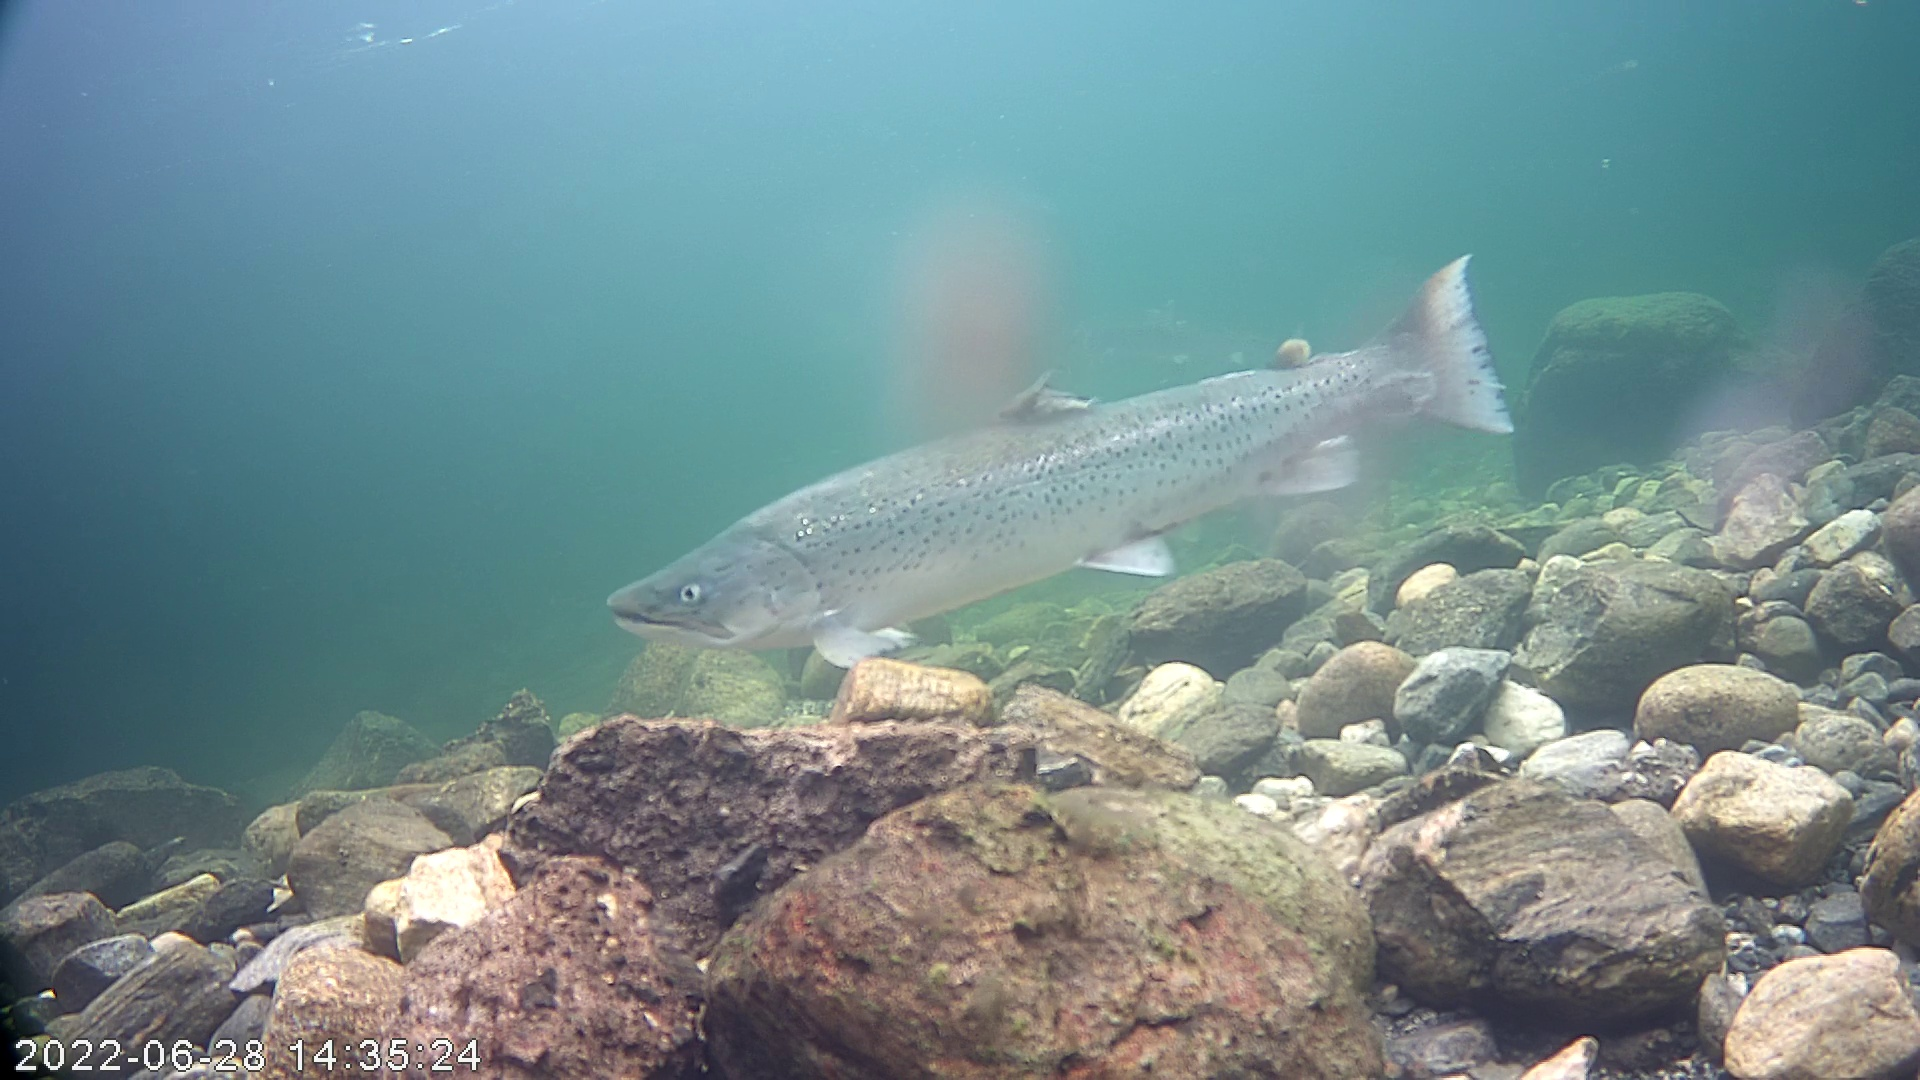salmon: (628, 222, 1544, 673)
